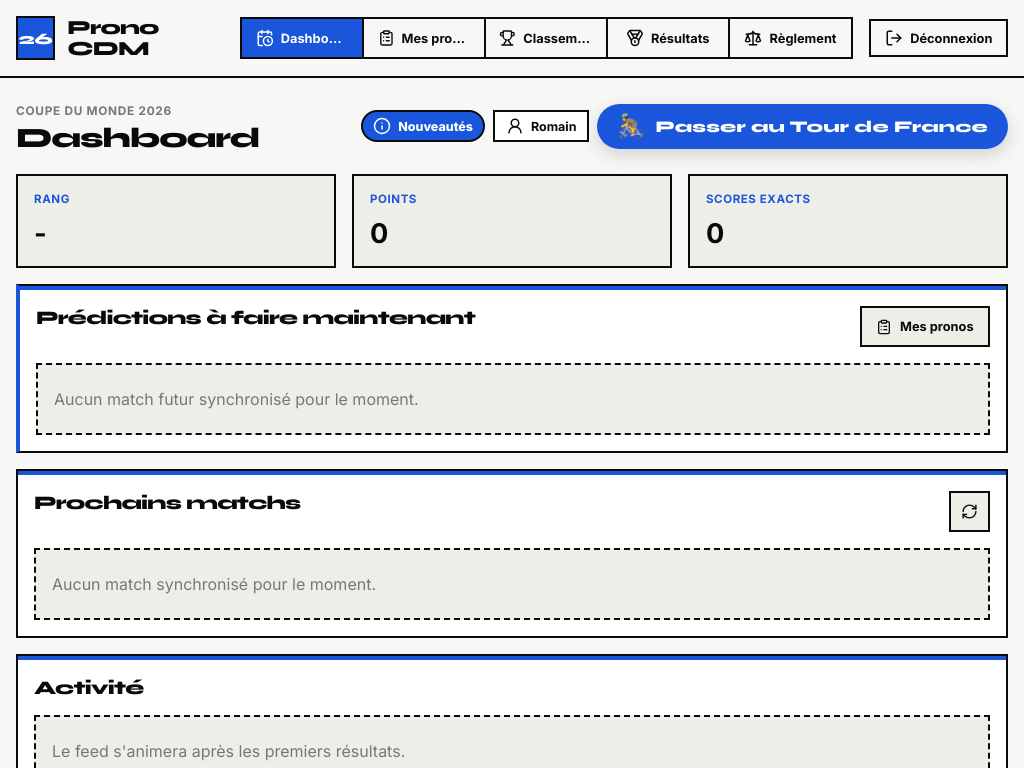
App components › renders flags for football-data English team names
The image size is (1024, 768).
Expected: the heading "Dashboard" is shown, x1=16 y1=123 x2=259 y2=154
Click the button "Mes pronos" in the row of "Prono CDM" at (425, 38), box x1=364 y1=19 x2=486 y2=57
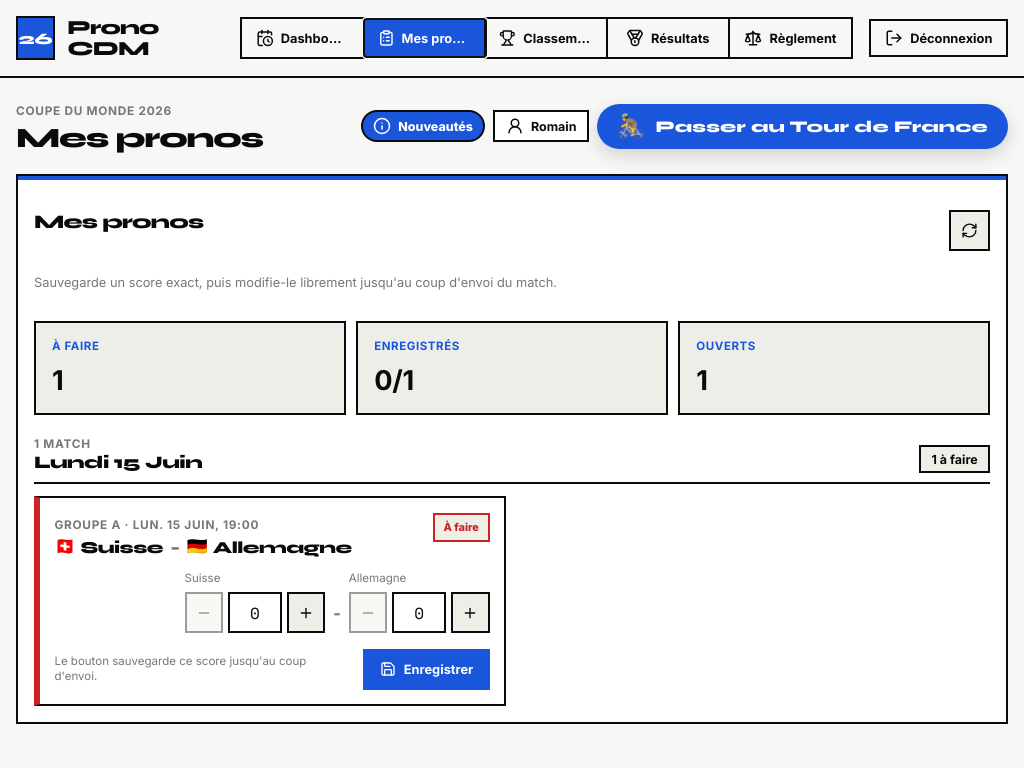
Result: the text "Suisse" below "Groupe A" is shown at x1=80 y1=536 x2=163 y2=558
Result: the text "Allemagne" below "Groupe A" is shown at x1=213 y1=536 x2=352 y2=558
Result: the text "🇨🇭" is shown at x1=54 y1=539 x2=75 y2=555
